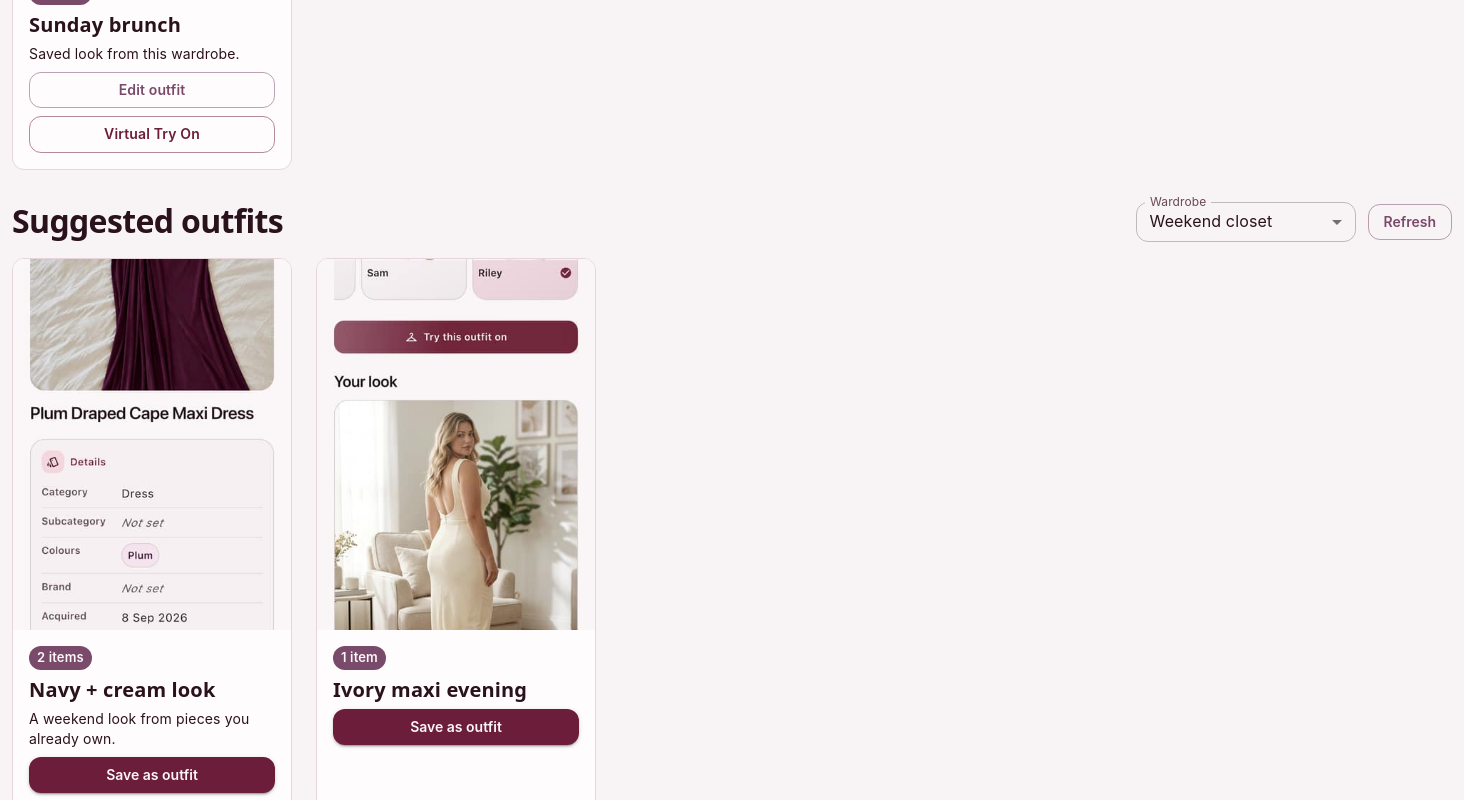
Test: OutfitsPage › saves a suggestion through POST outfits
(page scrolled)
Click the button with aria-label "Save this suggestion as an outfit: Navy + cream look" at (152, 775), box [29,757,275,793]
(page scrolled)
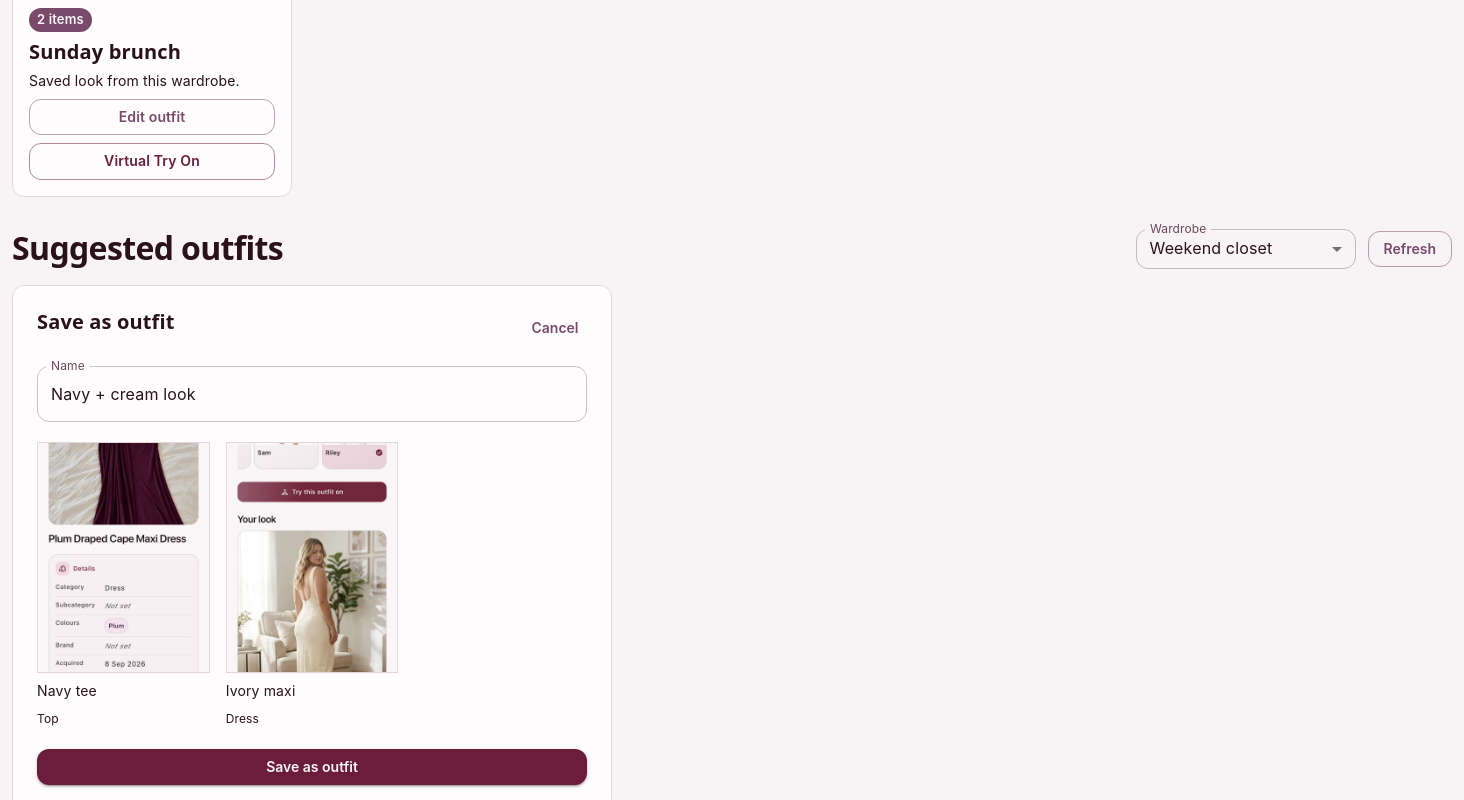
Click the button "Save as outfit" at (312, 767), box [37,748,587,785]
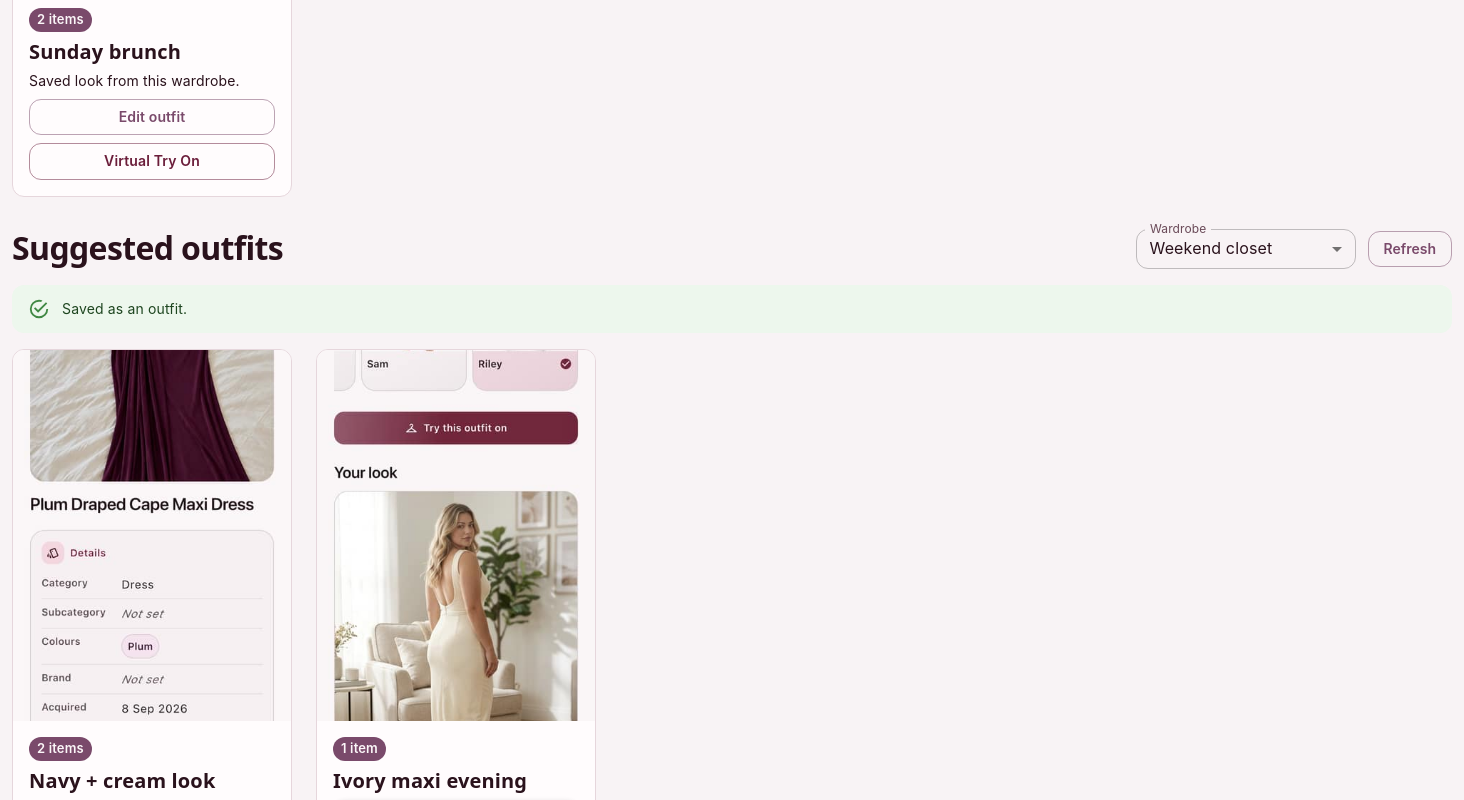
Expected: the message reads "Saved as an outfit.", [62,300,187,317]
